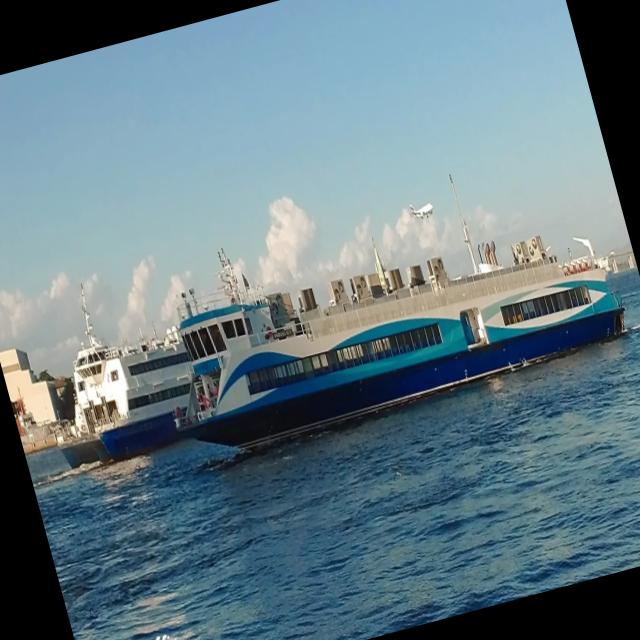Passenger: (179, 177, 624, 447), (58, 303, 193, 467)
